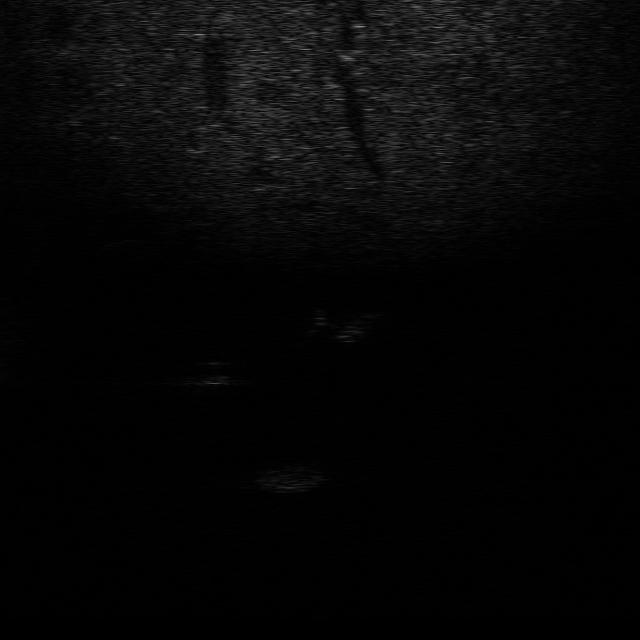ball: (178, 357, 238, 392)
circle cage: (245, 457, 327, 495)
human body: (298, 302, 388, 346)
